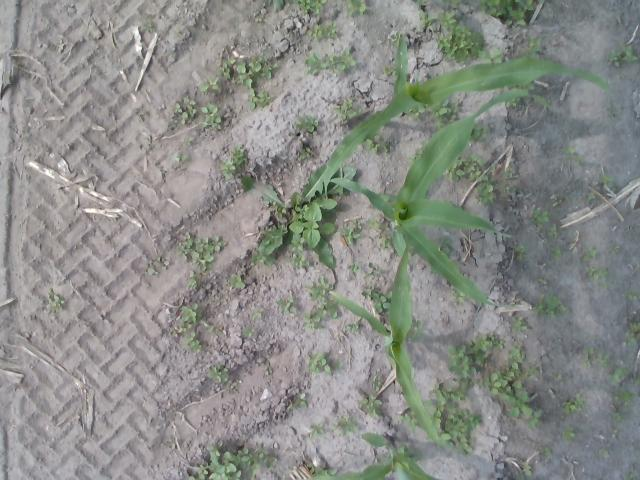Maize: (329, 88, 557, 304), (323, 34, 615, 200), (326, 228, 441, 444), (312, 434, 438, 480)
Weeds: (242, 164, 356, 268), (484, 341, 544, 427), (424, 378, 482, 456), (188, 440, 278, 480), (220, 56, 278, 110), (448, 332, 504, 380), (289, 202, 336, 249), (175, 231, 228, 272), (438, 27, 484, 63), (480, 0, 534, 26), (169, 302, 201, 336), (449, 155, 488, 182), (362, 283, 392, 313), (490, 161, 516, 194), (304, 352, 342, 372), (252, 237, 278, 266), (306, 276, 334, 300), (330, 48, 356, 73), (330, 414, 359, 435), (333, 100, 362, 121), (358, 394, 382, 418), (304, 52, 327, 76), (546, 293, 568, 318), (201, 104, 222, 130), (561, 393, 586, 414), (180, 96, 198, 125), (294, 0, 326, 14), (397, 413, 418, 434), (366, 134, 388, 154), (475, 184, 494, 205), (184, 332, 202, 354), (208, 364, 230, 382), (296, 115, 319, 132), (308, 463, 338, 476), (478, 48, 502, 64), (276, 296, 296, 315), (48, 288, 65, 310), (230, 146, 248, 166), (364, 263, 384, 281), (532, 208, 550, 228), (338, 228, 360, 244), (306, 421, 324, 440), (608, 366, 628, 383), (200, 75, 221, 91), (614, 387, 636, 402), (288, 392, 306, 410), (418, 12, 436, 30), (322, 298, 338, 318), (438, 12, 458, 28), (432, 100, 452, 116), (345, 0, 366, 15), (203, 322, 223, 336), (410, 320, 424, 340), (512, 316, 528, 333), (302, 314, 320, 329), (534, 294, 546, 316), (607, 50, 623, 66), (622, 45, 638, 61), (220, 162, 235, 179), (472, 125, 490, 139), (324, 20, 338, 38), (345, 321, 364, 334), (524, 362, 539, 378), (526, 36, 541, 52), (441, 0, 474, 7), (582, 246, 598, 260), (308, 25, 324, 39), (584, 346, 594, 368), (290, 255, 310, 266), (250, 307, 264, 322), (595, 354, 610, 368), (407, 107, 426, 118), (515, 244, 528, 260), (145, 260, 159, 274), (624, 331, 637, 346), (229, 276, 245, 288), (157, 256, 170, 270), (388, 32, 401, 45), (372, 374, 381, 392), (188, 270, 196, 290), (398, 446, 414, 456), (564, 425, 574, 441), (600, 172, 612, 184), (272, 0, 284, 12), (174, 152, 188, 162), (548, 223, 558, 237), (379, 236, 391, 247), (367, 216, 378, 228), (300, 147, 310, 160), (264, 360, 272, 376), (56, 40, 65, 54), (585, 266, 594, 280), (629, 322, 640, 333), (243, 328, 255, 338), (540, 446, 552, 456), (454, 292, 466, 302), (596, 268, 608, 278), (606, 245, 618, 255), (173, 103, 184, 113), (182, 136, 194, 145), (564, 147, 576, 156), (523, 465, 532, 476), (625, 473, 639, 480), (444, 114, 456, 122), (384, 67, 396, 75), (348, 264, 359, 272), (228, 380, 237, 389), (144, 21, 152, 31), (614, 412, 622, 421), (436, 118, 443, 128), (452, 101, 458, 112), (587, 192, 595, 200), (380, 223, 389, 230), (555, 248, 561, 258), (554, 374, 563, 380), (355, 220, 361, 229), (538, 278, 546, 284), (626, 293, 634, 299), (602, 282, 610, 288), (600, 450, 608, 456), (550, 194, 558, 199), (516, 475, 524, 480), (178, 30, 185, 35), (170, 119, 178, 123), (635, 378, 640, 384), (574, 158, 580, 163), (613, 430, 618, 434), (378, 234, 382, 238)
